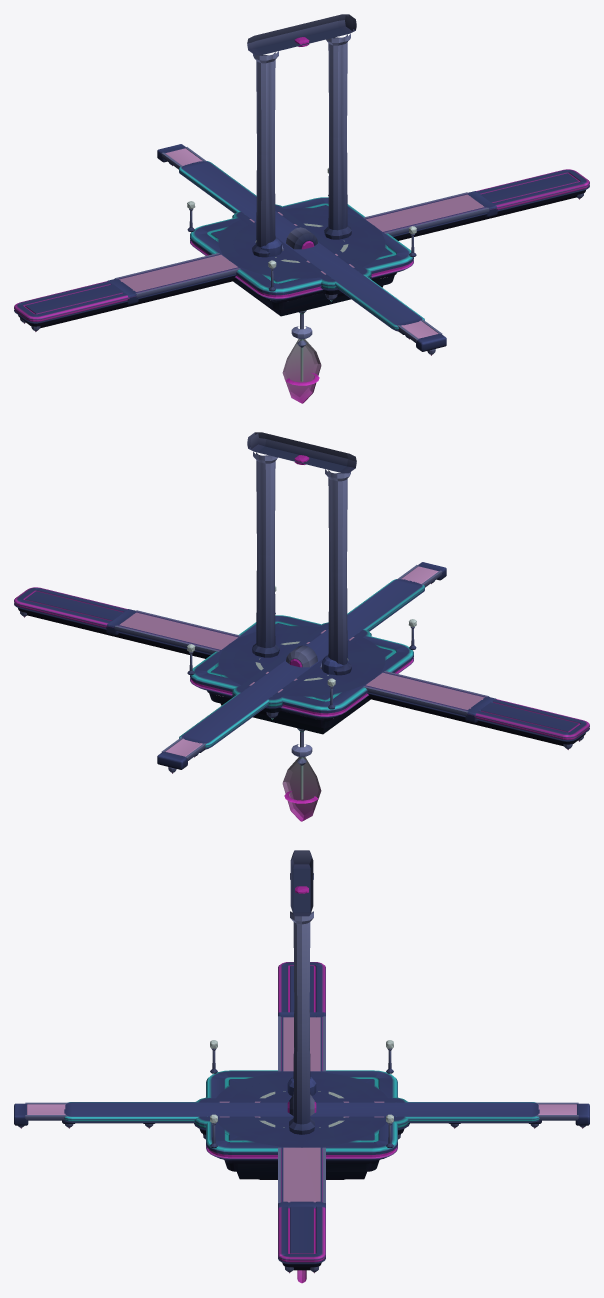
The model's file is core-1-C3aJUDs2.glb.
3 views of the same model, one above another, from view 1: azimuth 30°, elevation 25°; view 2: azimuth 150°, elevation 25°; view 3: azimuth 270°, elevation 25° (orthographic). The views are drawn at different scales.
Parts seen in each view (by area): view 1: block_44x2x3_grate#0, pressFrame_4x6x2x7#0, pad_12x2x12#0, block_2.5x2x30_grate#1, beam_29x1.5x3#1, pressFrame_3.5x6x2x7#0, disc_10x1.5#0, disc_12x1.5#0, blade_3x12x1#0, beam_2x1.5x36#1, block_4x2x13.5#1; view 2: block_44x2x3_grate#0, pressFrame_4x6x2x7#0, pad_12x2x12#0, block_2.5x2x30_grate#1, beam_29x1.5x3#1, pressFrame_3.5x6x2x7#0, disc_10x1.5#0, disc_12x1.5#0, blade_3x12x1#0, beam_2x1.5x36#1, block_4x2x13.5#1; view 3: block_2.5x2x30_grate#1, pad_12x2x12#0, block_44x2x3_grate#0, beam_29x1.5x3#1, pressFrame_4x6x2x7#0, disc_10x1.5#0, disc_12x1.5#0, beam_2x1.5x36#1, block_4x2x13.5#1, pressFrame_3.5x6x2x7#0.
Boxes of the visible parts, x1,y1,x2,y2 form: block_44x2x3_grate#0: [14, 169, 589, 331]; pressFrame_4x6x2x7#0: [247, 14, 356, 257]; pad_12x2x12#0: [187, 168, 416, 316]; block_2.5x2x30_grate#1: [179, 161, 424, 331]; beam_29x1.5x3#1: [107, 191, 497, 304]; pressFrame_3.5x6x2x7#0: [250, 15, 353, 242]; disc_10x1.5#0: [233, 214, 370, 272]; disc_12x1.5#0: [215, 207, 388, 314]; blade_3x12x1#0: [282, 227, 321, 403]; beam_2x1.5x36#1: [157, 144, 446, 355]; block_4x2x13.5#1: [232, 204, 371, 301]; block_44x2x3_grate#0: [14, 587, 589, 749]; pressFrame_4x6x2x7#0: [247, 432, 356, 675]; pad_12x2x12#0: [187, 586, 416, 734]; block_2.5x2x30_grate#1: [179, 579, 424, 749]; beam_29x1.5x3#1: [106, 609, 496, 722]; pressFrame_3.5x6x2x7#0: [250, 433, 353, 660]; disc_10x1.5#0: [233, 632, 370, 690]; disc_12x1.5#0: [215, 625, 388, 732]; blade_3x12x1#0: [282, 645, 321, 821]; beam_2x1.5x36#1: [157, 562, 446, 773]; block_4x2x13.5#1: [232, 622, 371, 719]; block_2.5x2x30_grate#1: [64, 1102, 539, 1123]; pad_12x2x12#0: [206, 1040, 397, 1179]; block_44x2x3_grate#0: [278, 962, 325, 1273]; beam_29x1.5x3#1: [278, 1012, 325, 1208]; pressFrame_4x6x2x7#0: [289, 850, 314, 1134]; disc_10x1.5#0: [229, 1078, 374, 1140]; disc_12x1.5#0: [216, 1071, 387, 1147]; beam_2x1.5x36#1: [14, 1102, 589, 1128]; block_4x2x13.5#1: [194, 1097, 409, 1139]; pressFrame_3.5x6x2x7#0: [289, 852, 314, 1124].
Size of the model in its own units: 44 by 28.1 by 36.
